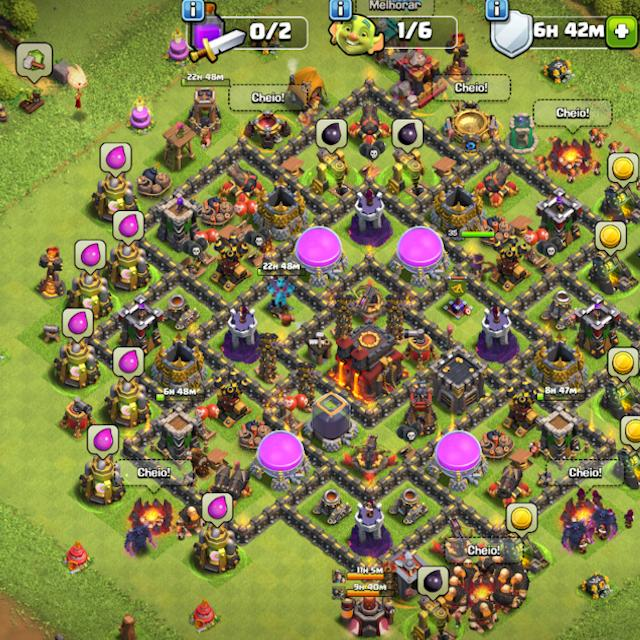Elixir: (112, 345, 146, 383), (73, 239, 107, 276), (201, 491, 234, 529), (111, 210, 145, 246), (99, 141, 132, 177), (62, 307, 95, 343), (87, 424, 119, 461)
ElixirNegro: (314, 116, 348, 154), (391, 117, 424, 154), (417, 564, 449, 602)
coin: (608, 345, 640, 385), (594, 220, 628, 256), (607, 152, 639, 190), (506, 503, 538, 540), (619, 414, 640, 452)
